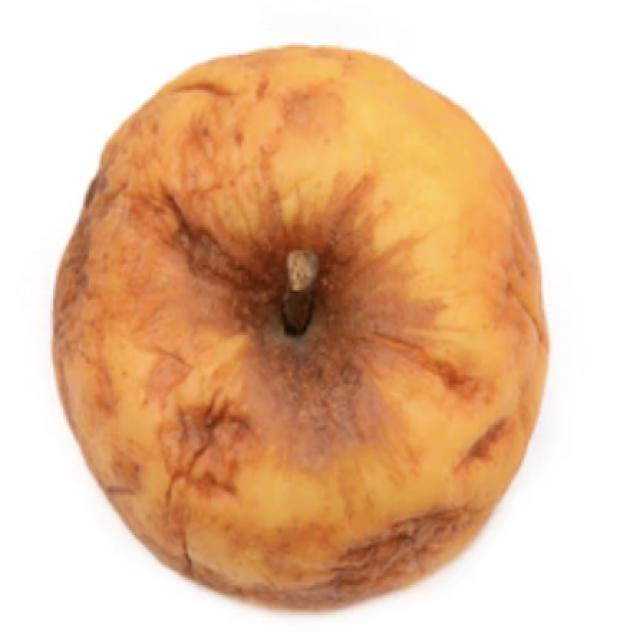Rotten: (55, 59, 538, 588)
